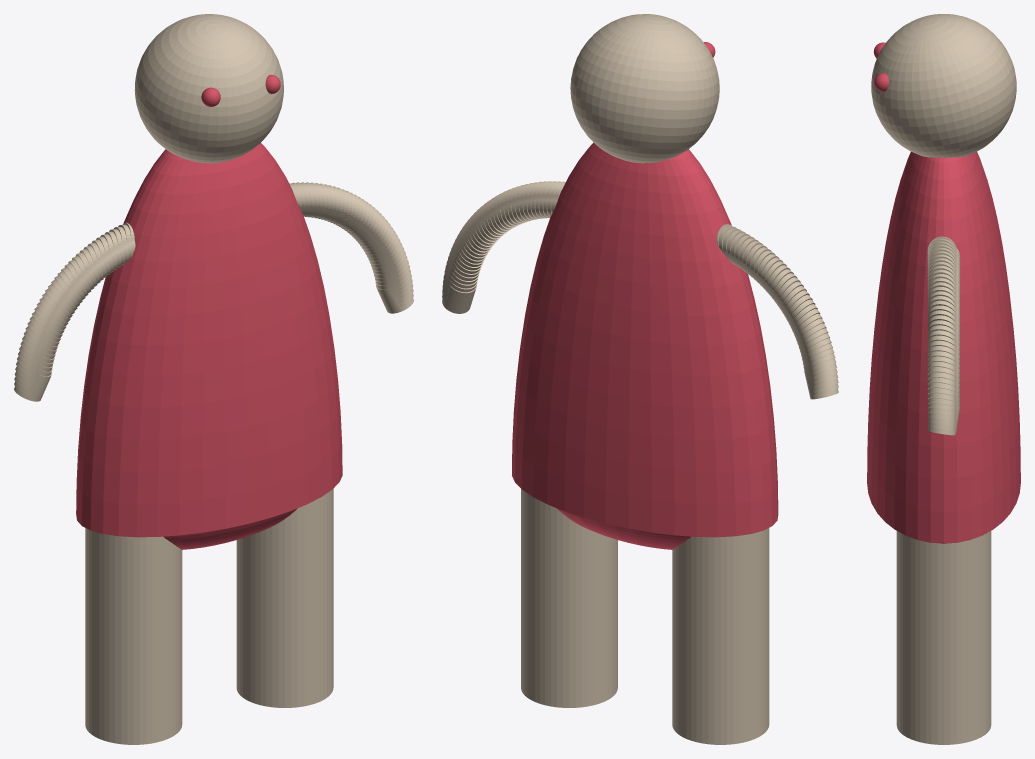
The model's file is enemy.glb.
3 views of the same model, side by side, from view 1: azimuth 30°, elevation 25°; view 2: azimuth 150°, elevation 25°; view 3: azimuth 270°, elevation 25° (orthographic). The views are drawn at different scales.
Visible parts, largest first — view 1: Mesh_Mesh_head_geo.001_lambert2SG.001; view 2: Mesh_Mesh_head_geo.001_lambert2SG.001; view 3: Mesh_Mesh_head_geo.001_lambert2SG.001.
Part boxes in pixels (bbox=[...]): Mesh_Mesh_head_geo.001_lambert2SG.001: bbox=[14, 14, 413, 744]; Mesh_Mesh_head_geo.001_lambert2SG.001: bbox=[442, 14, 838, 744]; Mesh_Mesh_head_geo.001_lambert2SG.001: bbox=[867, 14, 1020, 744].
Size of the model in its own units: 64.8 by 108 by 22.45.
